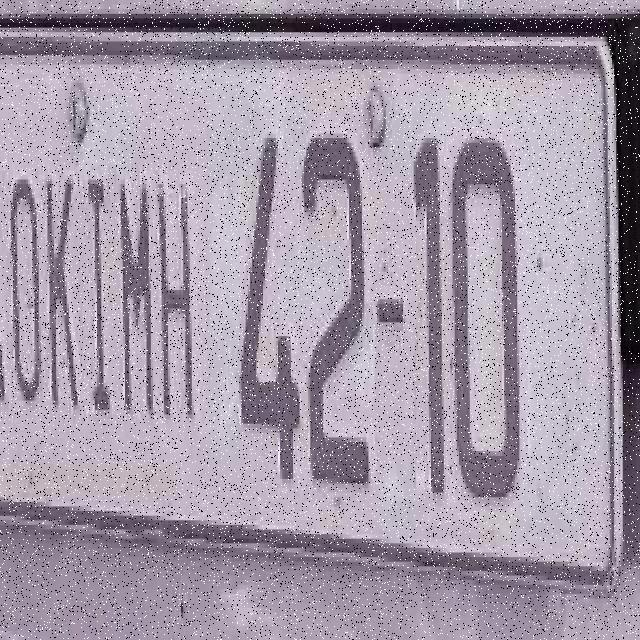License Plate: (213, 6, 634, 612)
